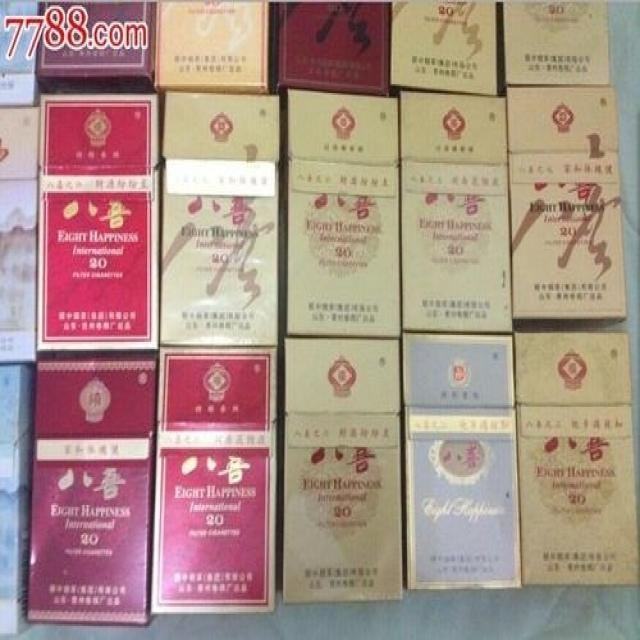box: (26, 354, 159, 628), (152, 347, 279, 614), (282, 337, 404, 605), (513, 331, 640, 587), (38, 95, 159, 354), (402, 331, 522, 591), (161, 91, 282, 347), (504, 86, 627, 333), (283, 89, 401, 340), (398, 89, 515, 333), (0, 70, 42, 365), (156, 0, 273, 105), (36, 0, 156, 95), (497, 0, 611, 96), (274, 0, 389, 95), (390, 0, 497, 96), (0, 366, 35, 636)
